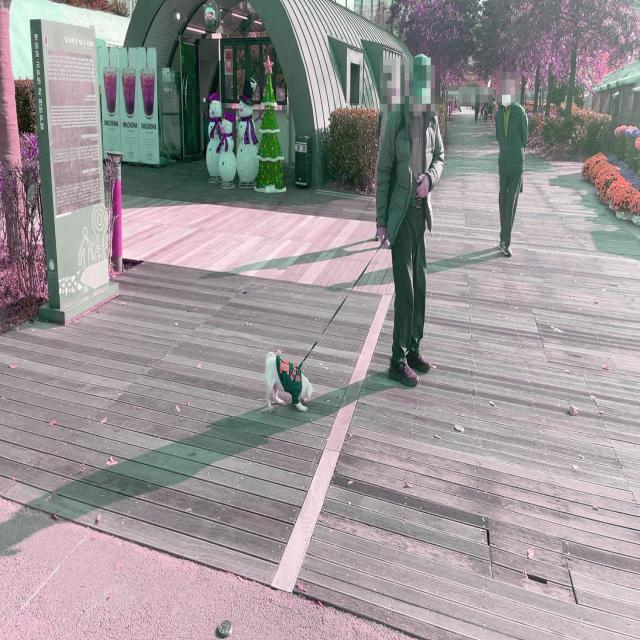Leashed_Dog: (264, 218, 409, 414)
